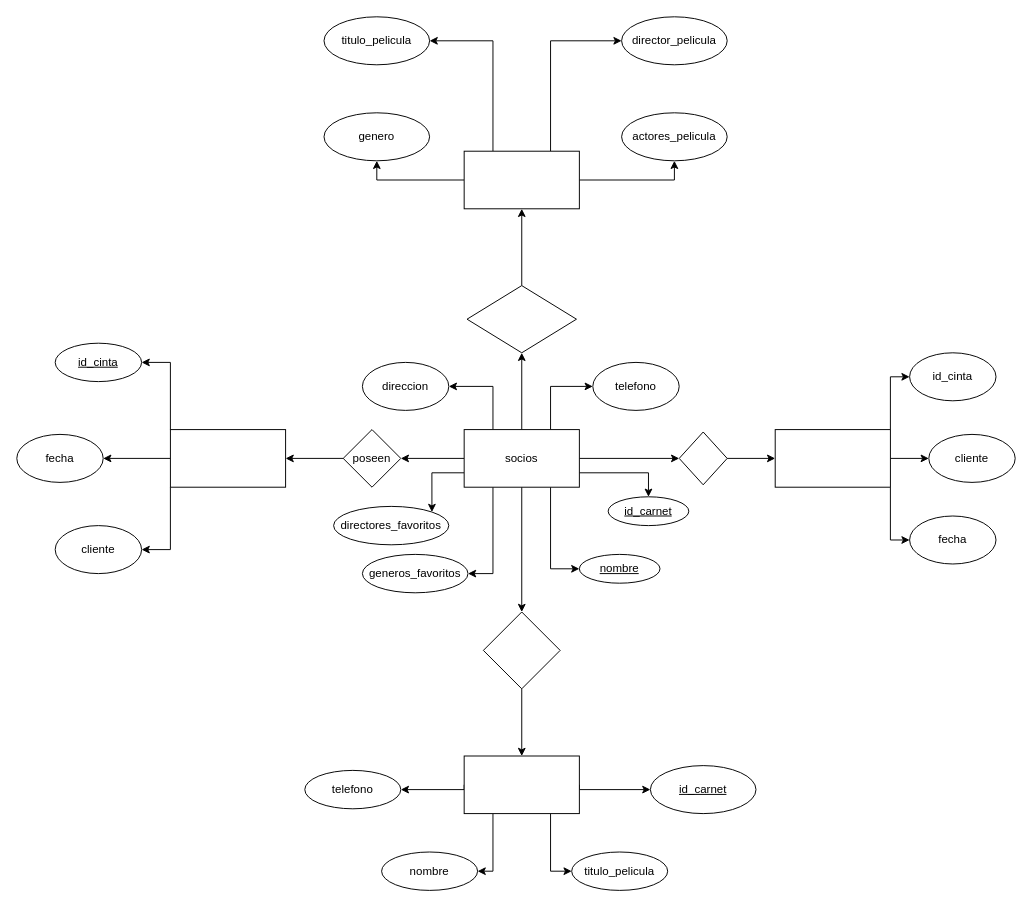
This 1032x907 diagram has some shape labels left out. Here are the shapes that lost their labels. From the top down, the centre of each, then its label:
the point at 521,179: peliculas
the point at 521,319: pueden_tener
the point at 227,458: peliculas_prestadas
the point at 702,458: tienen
the point at 832,458: peliculas_devueltas
the point at 521,650: estan_en
the point at 521,784: lista_de_espera
